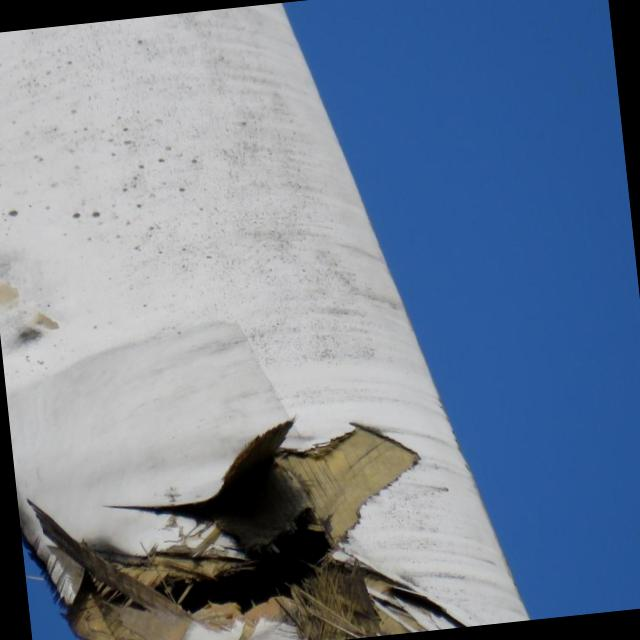crack: (18, 401, 461, 640)
